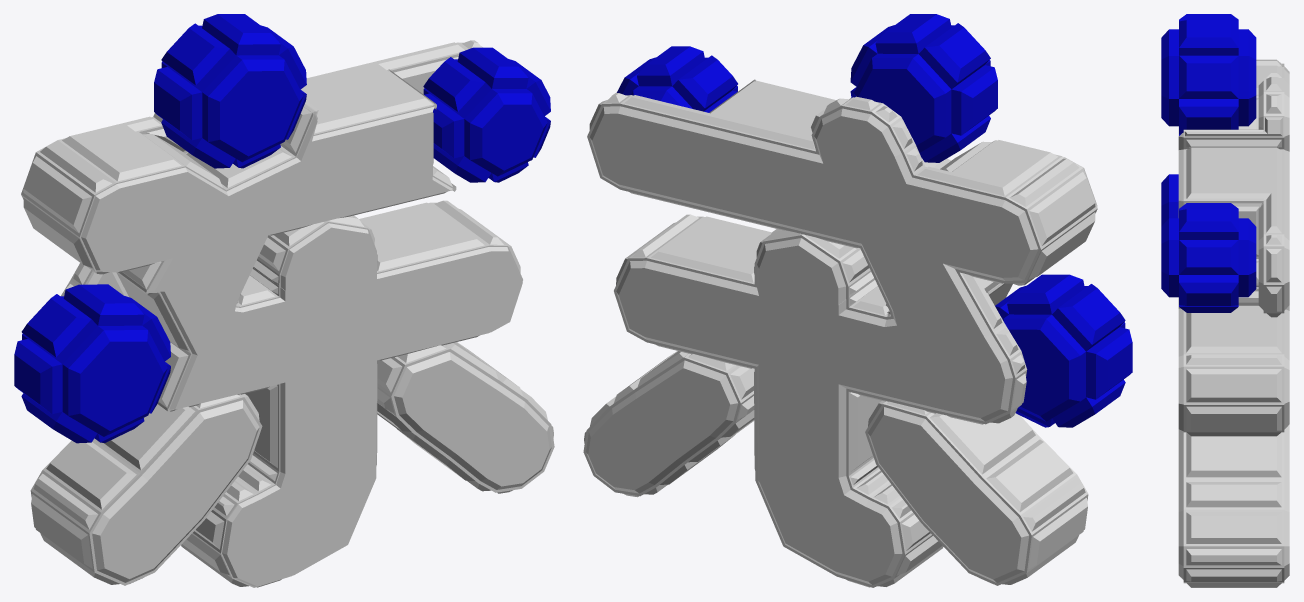
File: Ch_China_东_01.fbx
3 views of the same model, side by side, from view 1: azimuth 30°, elevation 25°; view 2: azimuth 150°, elevation 25°; view 3: azimuth 270°, elevation 25° (orthographic). The views are drawn at different scales.
Parts seen in each view (by area): view 1: sphere1; view 2: sphere1; view 3: sphere1.
Boxes of the visible parts, x1,y1,x2,y2 form: sphere1: [14, 14, 554, 587]; sphere1: [583, 14, 1132, 587]; sphere1: [1161, 14, 1289, 587].
Size of the model in its own units: 1.01 by 1.05 by 0.2541.
